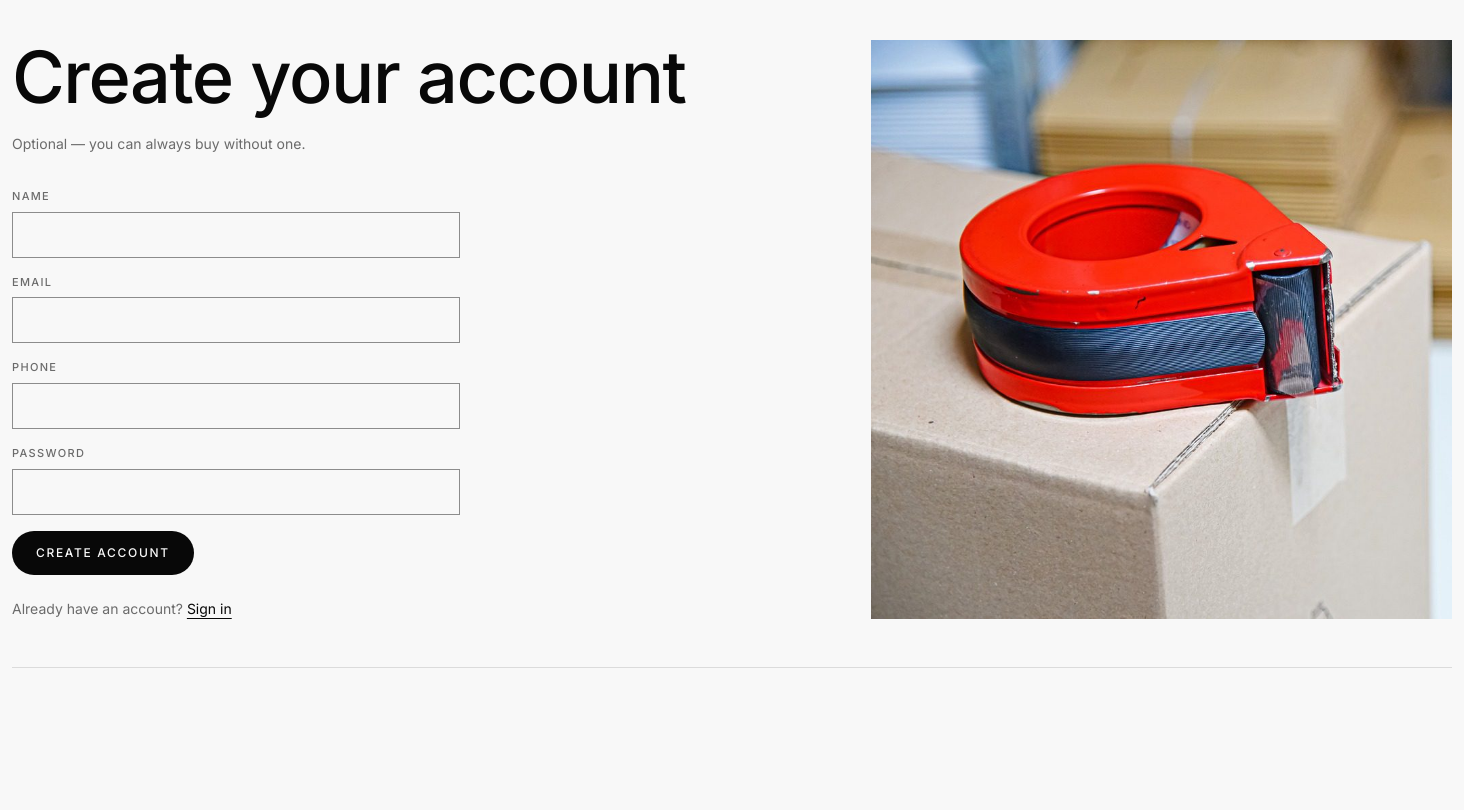
Test case: sign up (SC-18, SC-19) › sends the trimmed values, refuses an email that belongs to an account and empties only the password
Type "Other Lan" into the field labelled "Name" at (236, 235), box [12,212,460,258]
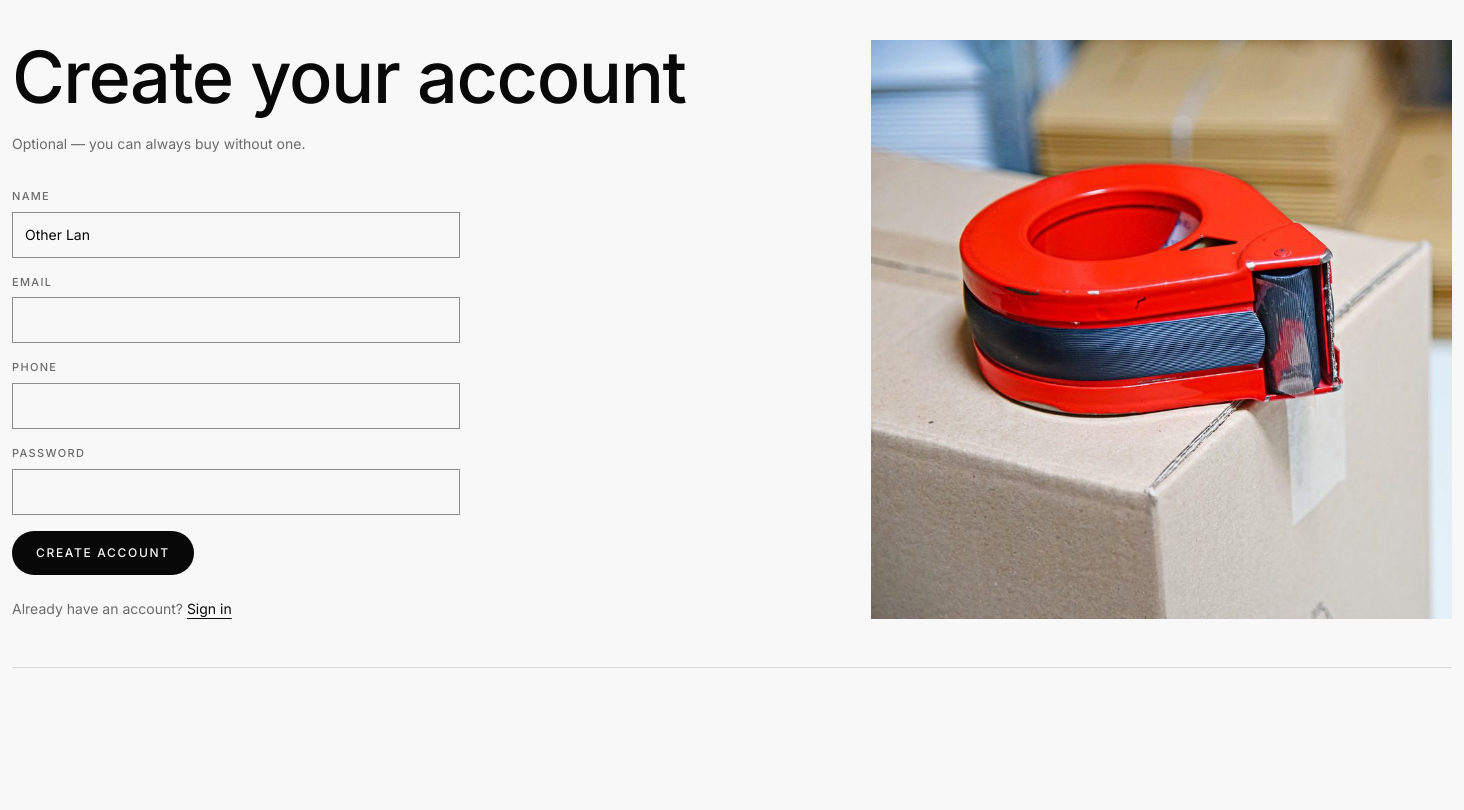
Type "LAN@example.com" into the field labelled "Email" at (236, 320), box [12,297,460,343]
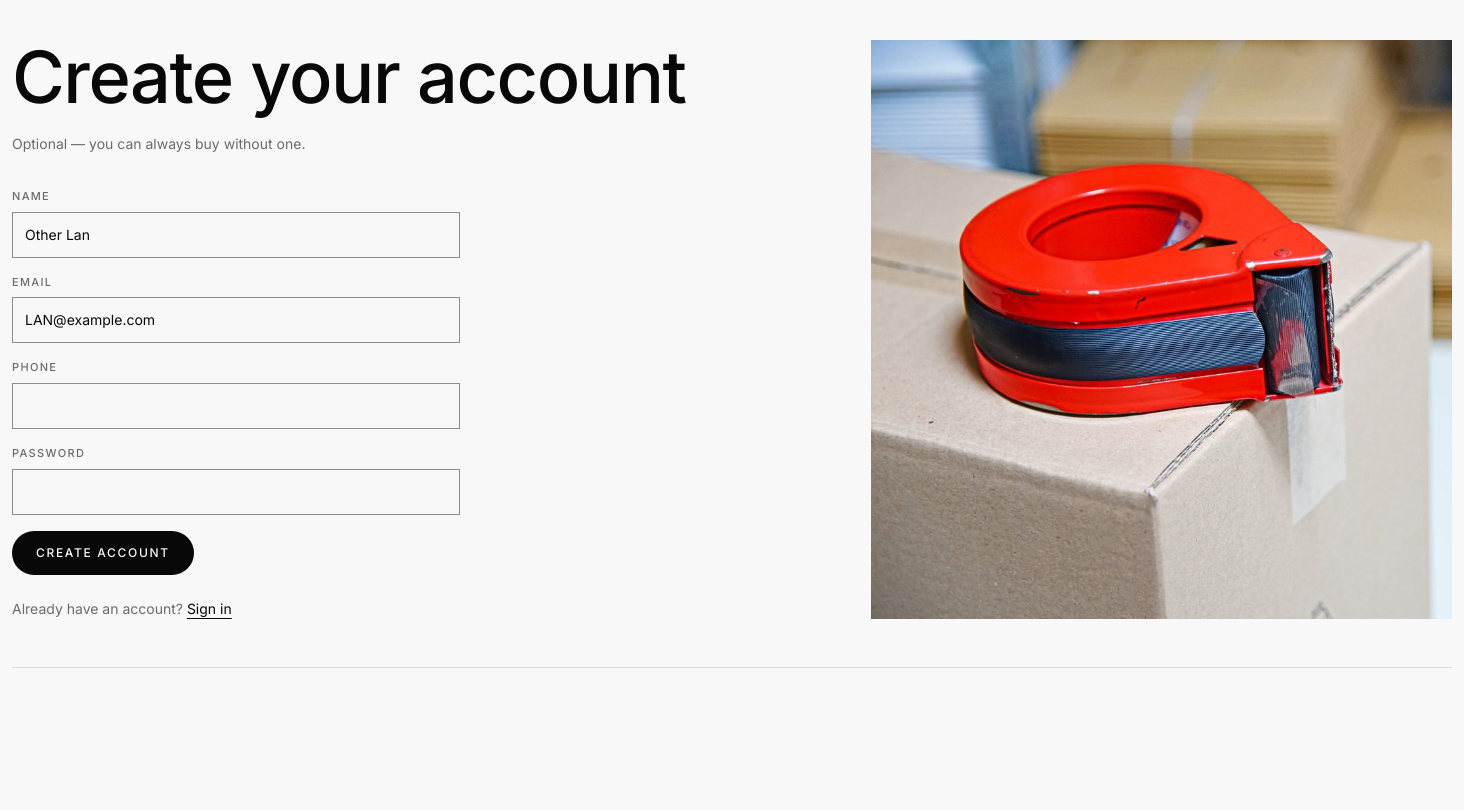
Type "0912 345 678" into the field labelled "Phone" at (236, 406), box [12,383,460,429]
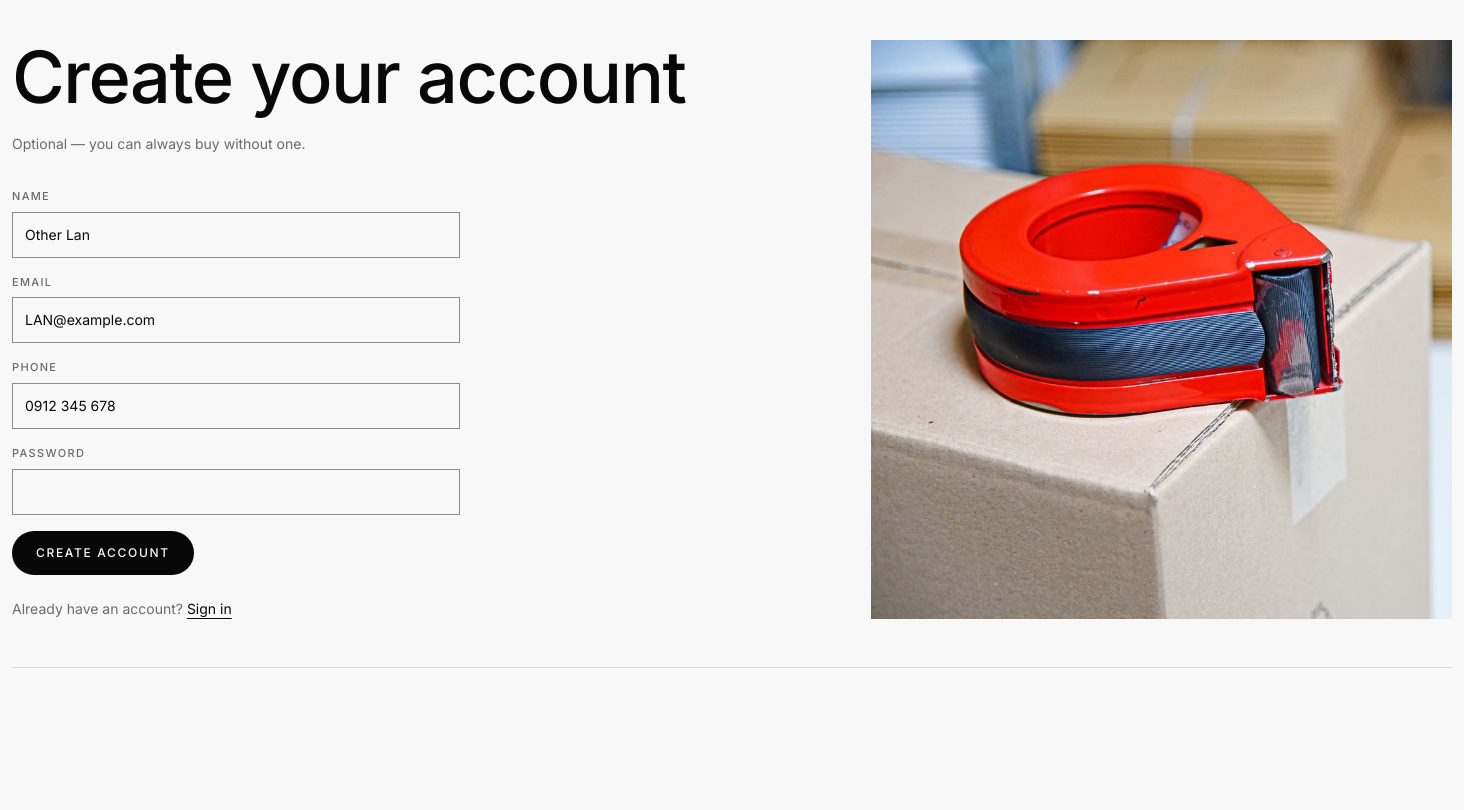
Type "lanpass123" into the password field labelled "Password" at (236, 492), box [12,469,460,515]
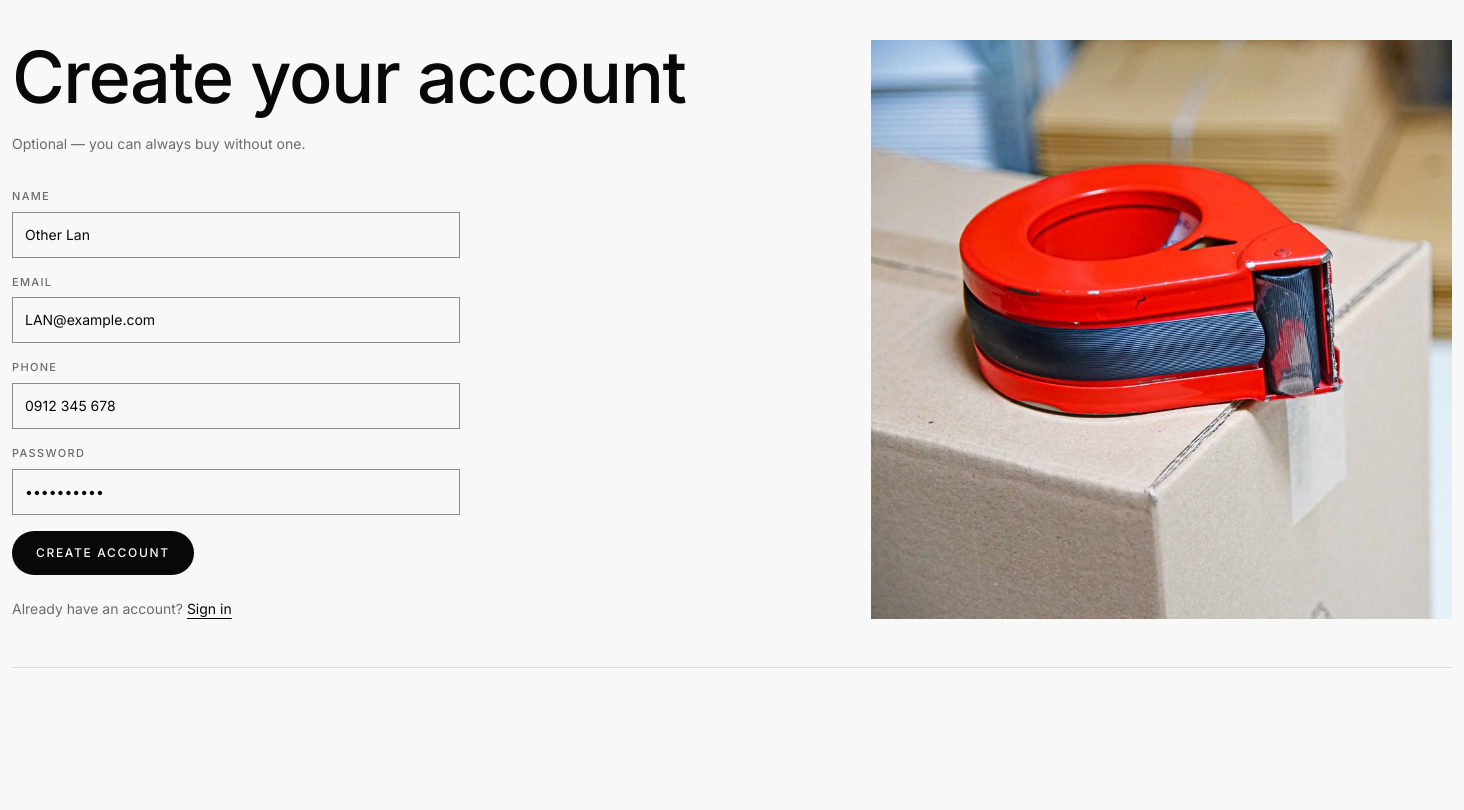
Click the button "Create account" at (103, 553), box [12,531,194,575]
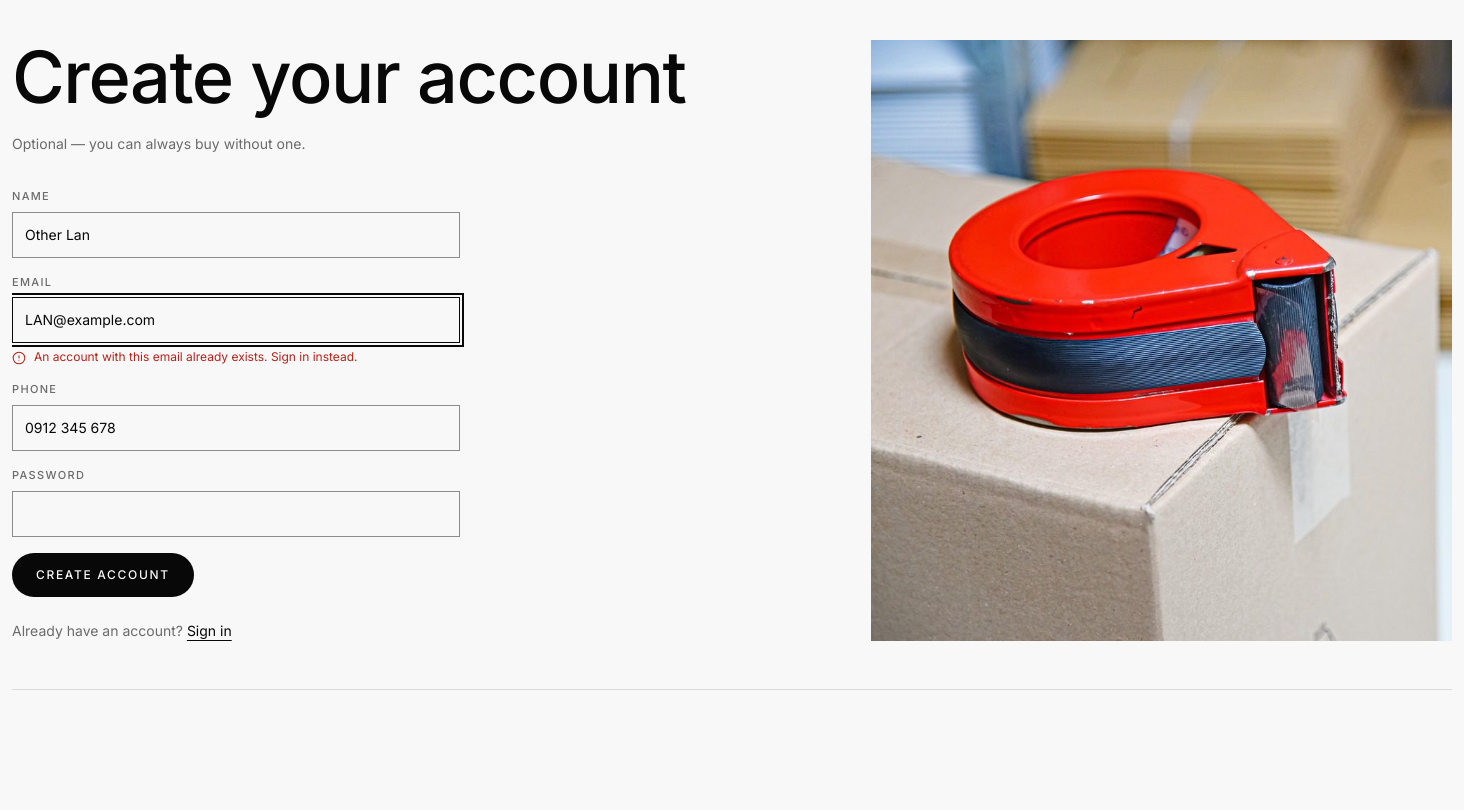
Expected: the button "Create account" is enabled, [12,553,194,597]
Result: the text "An account with this email already exists. Sign in instead." is shown at [34,349,358,365]
Result: the password field labelled "Password" is empty at [12,491,460,537]
